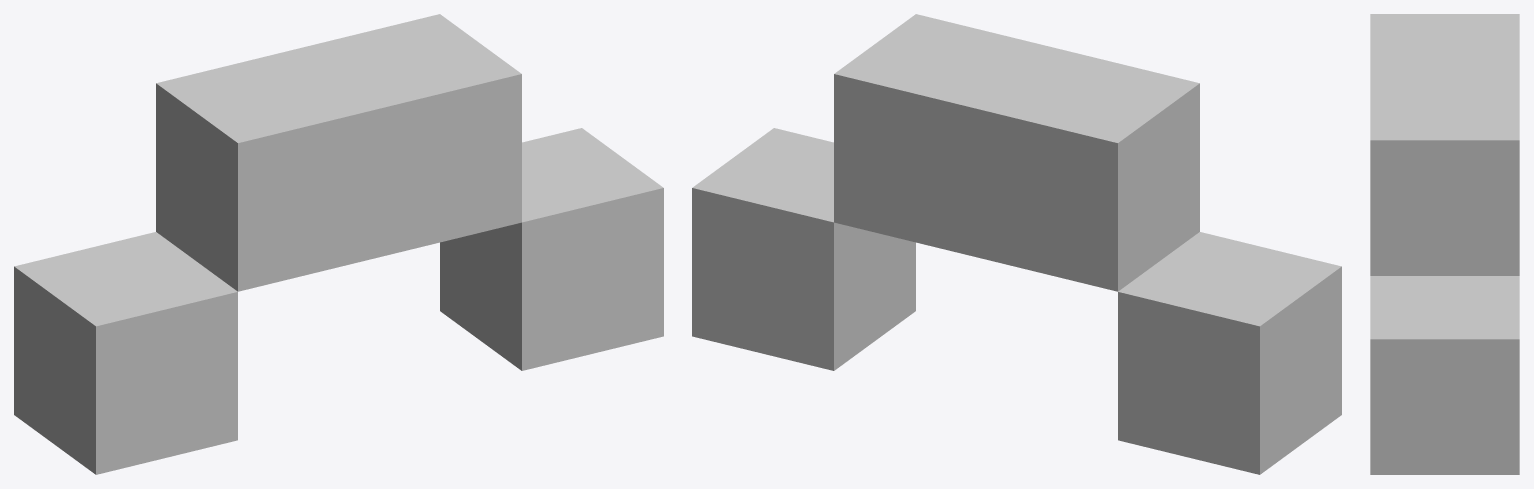
The picture shows the model from 3 angles, left to right: view 1: azimuth 30°, elevation 25°; view 2: azimuth 150°, elevation 25°; view 3: azimuth 270°, elevation 25°; orthographic projection. The views are drawn at different scales.
Parts seen in each view (by area): view 1: 95.1; view 2: 95.1; view 3: 95.1.
Boxes of the visible parts, box(x1,y1,x2,y2) form: 95.1: box(14, 14, 663, 474); 95.1: box(692, 14, 1341, 474); 95.1: box(1370, 14, 1519, 474).
Size of the model in its own units: 40 by 20 by 10.
Materials: 1 (1 with a texture image).
